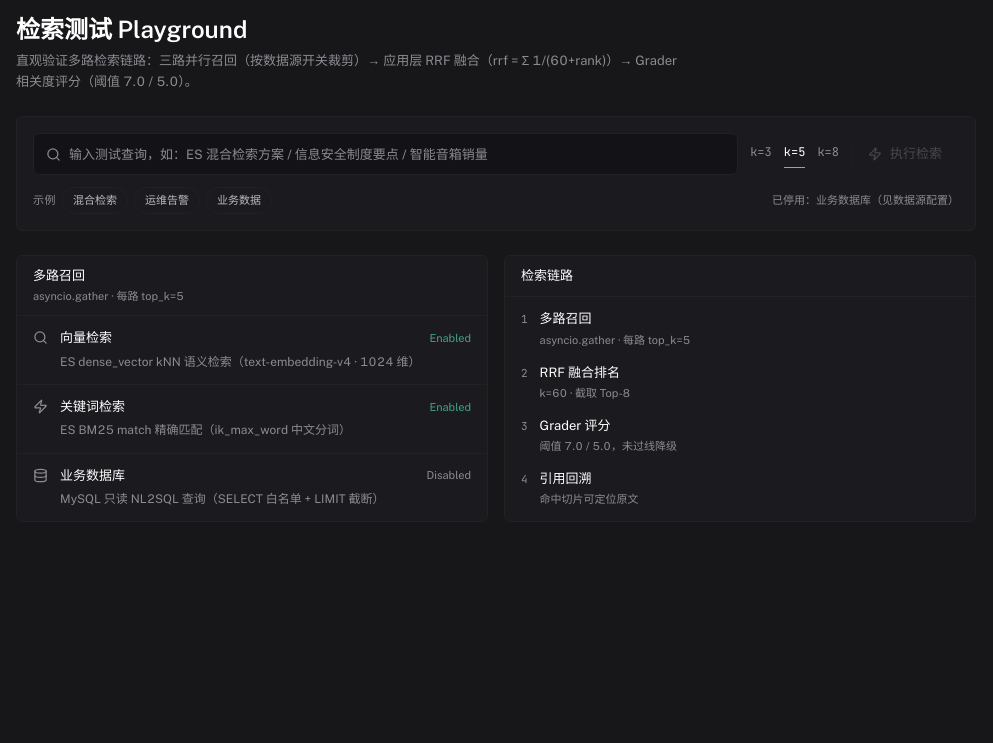
Scenario: PlaygroundView › 某一路失败时展示失败态且继续融合其他路
Step 1. Type "q" into the field with placeholder "输入测试查询，如：ES 混合检索方案 / 信息安全制度要点 / 智能音箱销量" → {"x": 397, "y": 154}, box [69,134,725,174]
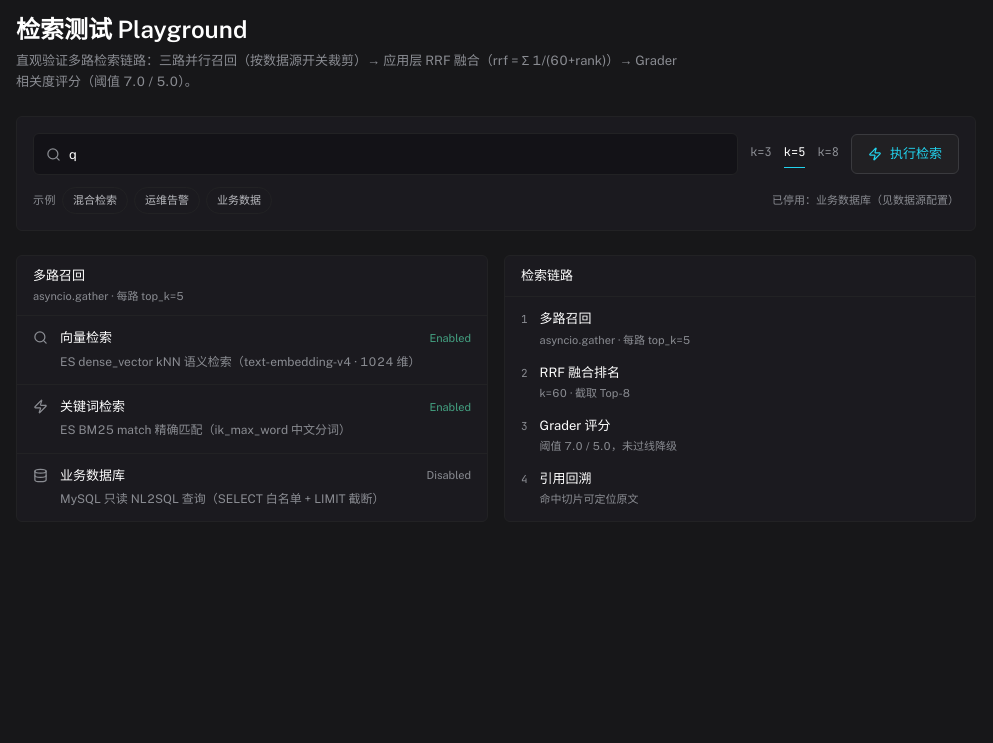
Step 2. Click the button "执行检索" → {"x": 905, "y": 154}, box [851,134,959,174]
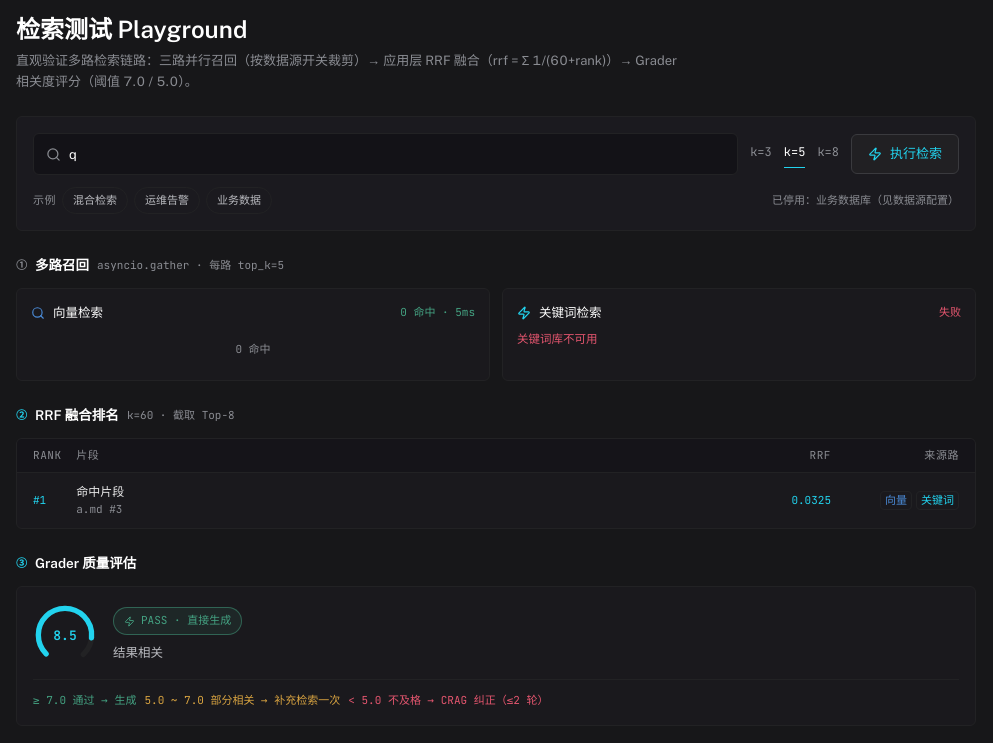
Now the text "关键词库不可用" is shown, box [517,332,598,346]
